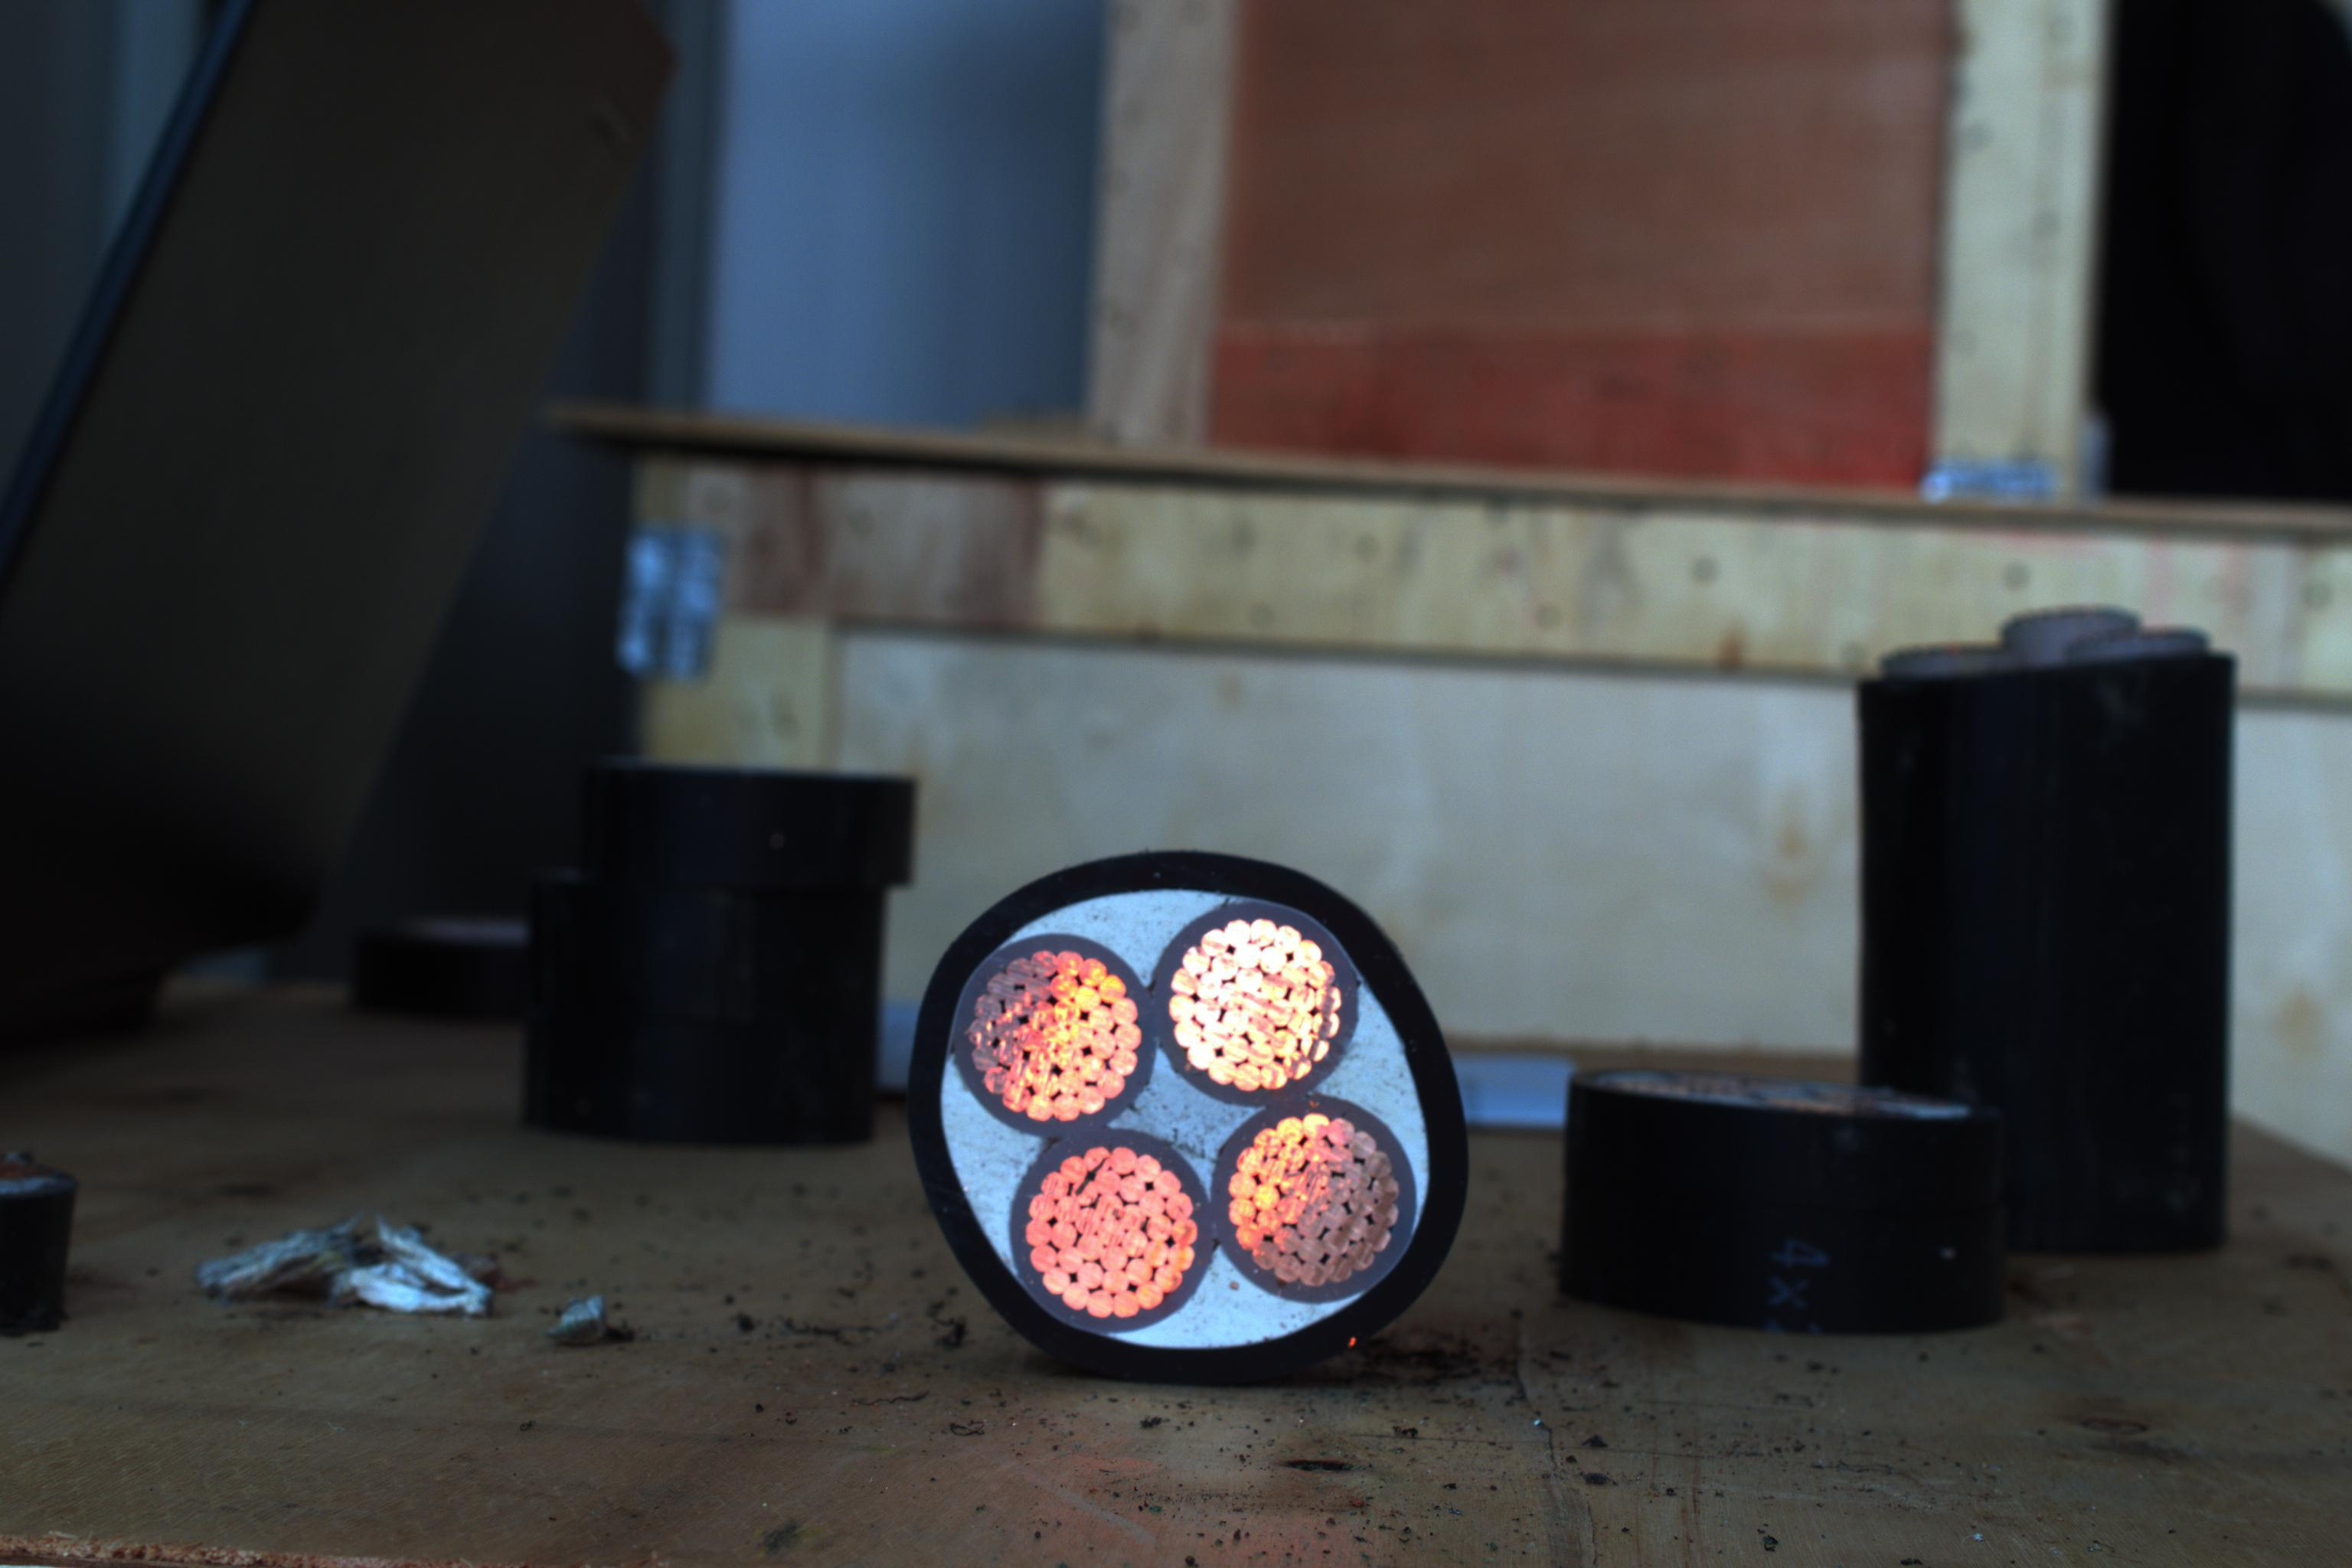YJV_0.6_1kV_4x240: (899, 842, 1456, 1372)
